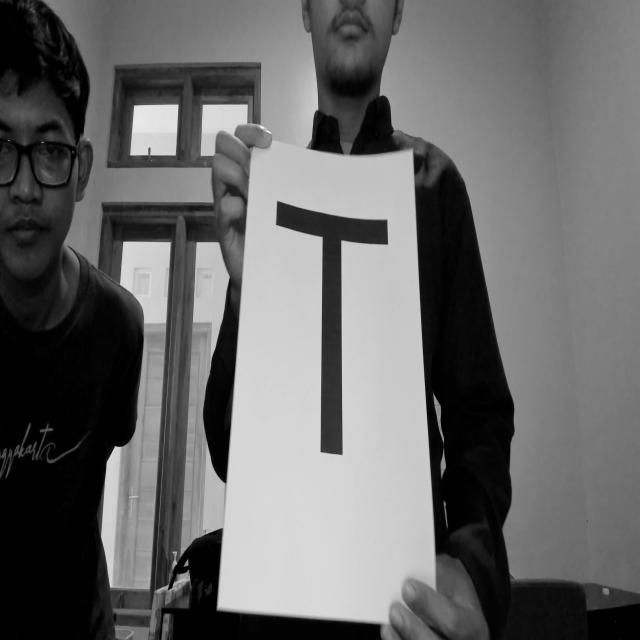t: (264, 178, 406, 481)
